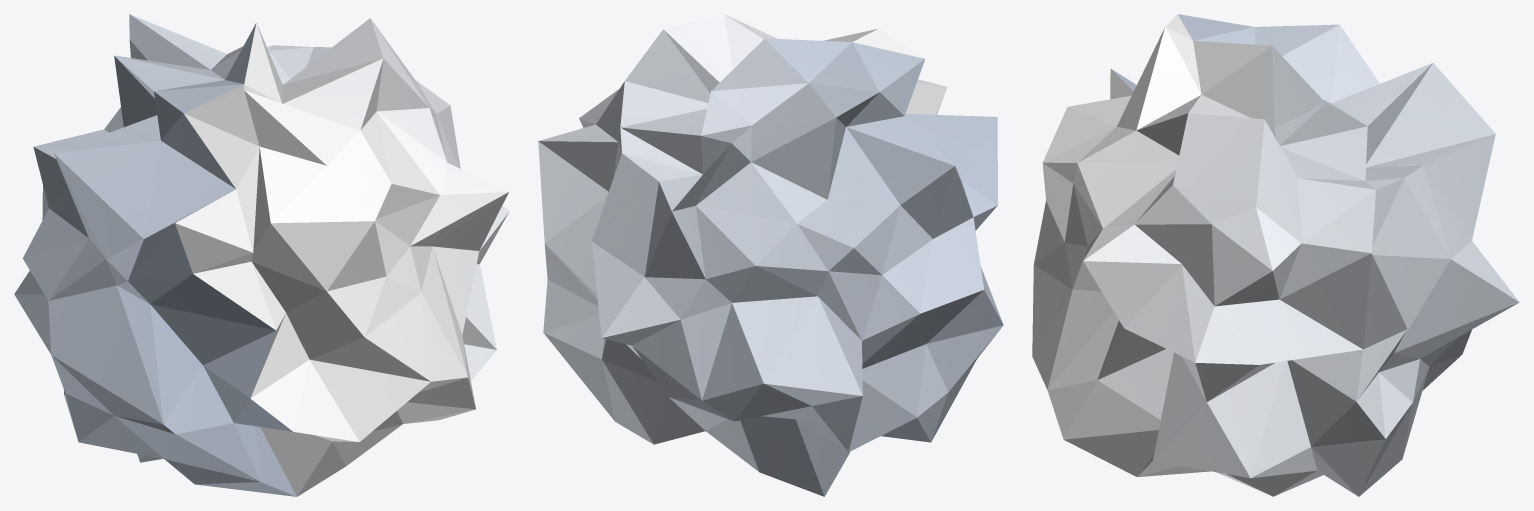
File: trash01.fbx
3 renders of one model, left to right at view 1: azimuth 30°, elevation 25°; view 2: azimuth 150°, elevation 25°; view 3: azimuth 270°, elevation 25°, orthographic. The views are drawn at different scales.
Parts seen in each view (by area): view 1: Trash; view 2: Trash; view 3: Trash.
Boxes of the visible parts, <box> form: Trash: <box>14,14,509,496</box>; Trash: <box>538,14,1003,496</box>; Trash: <box>1032,14,1519,496</box>.
Size of the model in its own units: 24.29 by 25.39 by 24.05.
